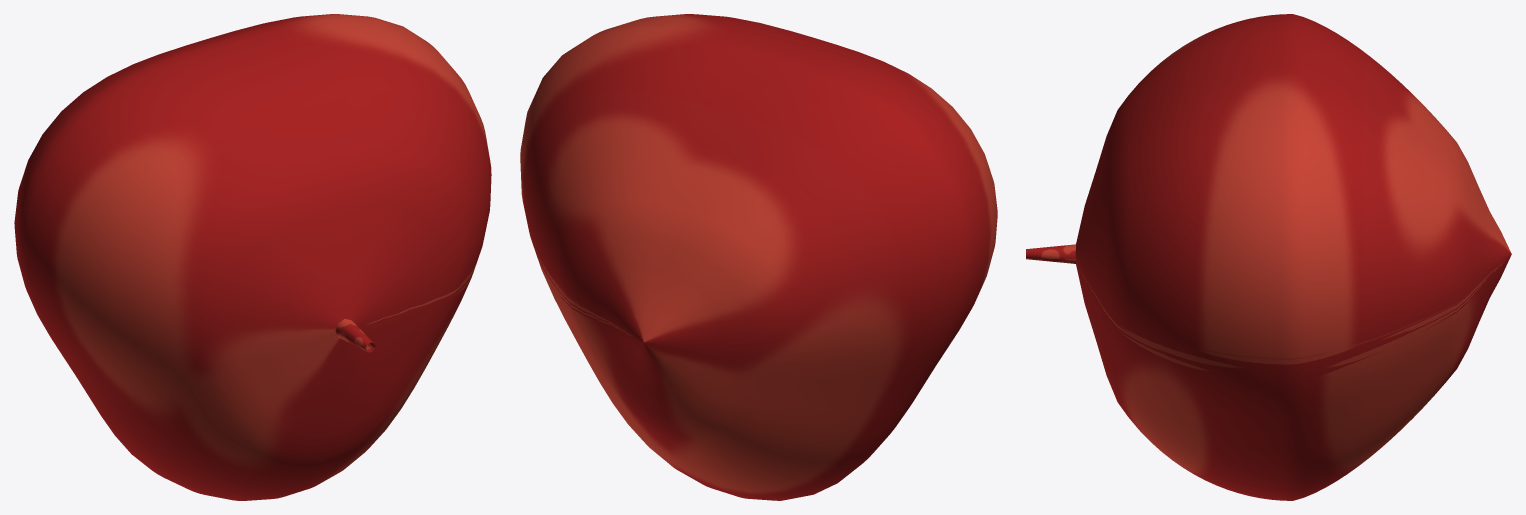
Rendered from apple_05_v2.obj.
3 renders of one model, left to right at view 1: azimuth 30°, elevation 25°; view 2: azimuth 150°, elevation 25°; view 3: azimuth 270°, elevation 25°, orthographic. The views are drawn at different scales.
Bounding box in the file's own units: 2.08 × 2.01 × 2.04.
1 material, 1 textured.
